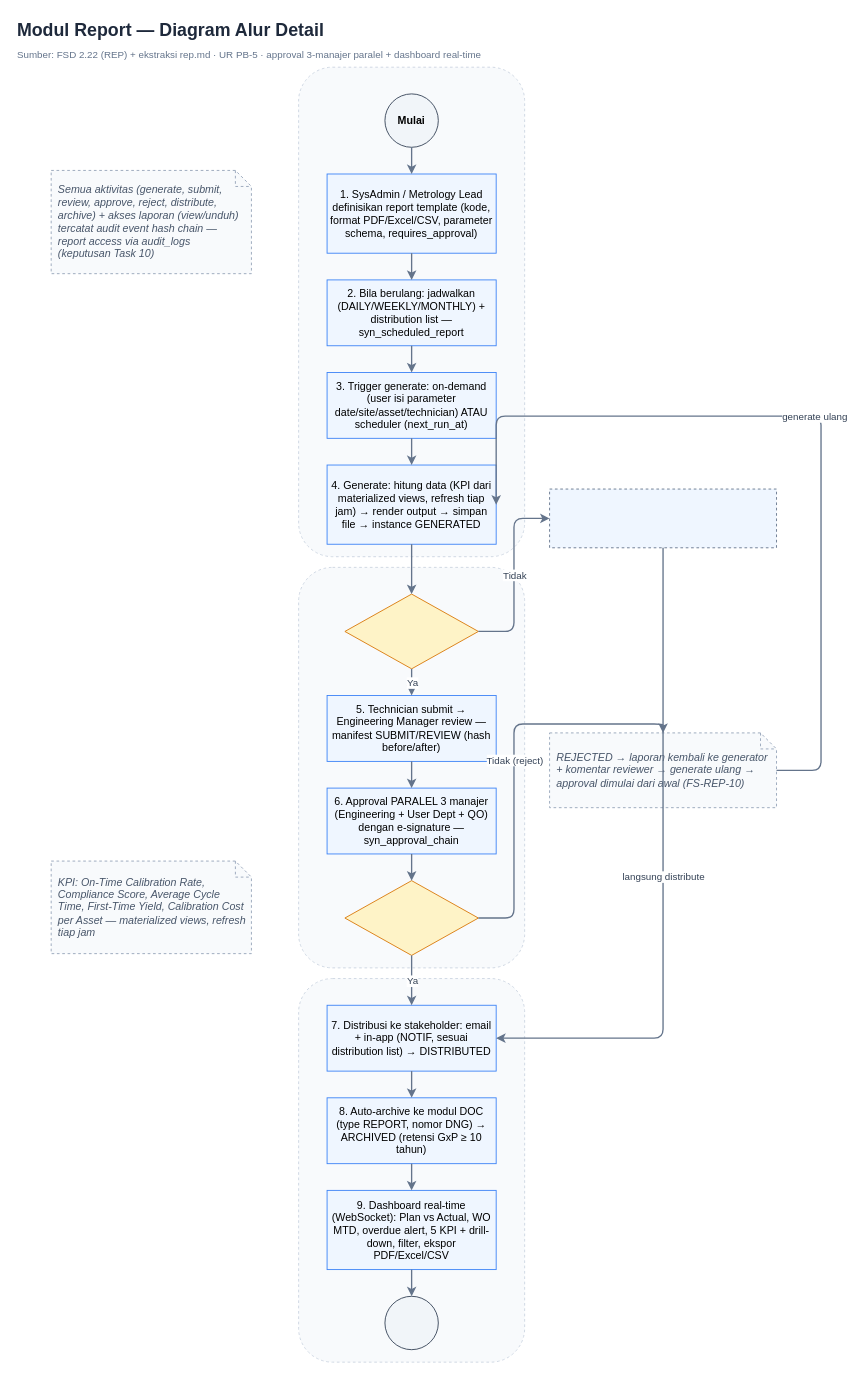
The diagram is 862 pixels wide and 1378 high, and some of its shapes have lost their labels. The box of each missing label's shape, as (x1, y1, x2, y2) in pixels:
Fase 1 — Template & generate: (298, 66, 525, 557)
Fase 2 — Approval 3-manajer paralel (FS-REP-07/09): (298, 566, 525, 968)
Fase 3 — Distribusi, archive & dashboard: (298, 978, 525, 1362)
requires_approval = false → jalur singkat: langsung distribusi (tanpa approval): (549, 488, 777, 548)
Selesai: (384, 1295, 438, 1350)
Semua approve?: (344, 880, 478, 955)
Template requires_approval?: (344, 593, 478, 669)
